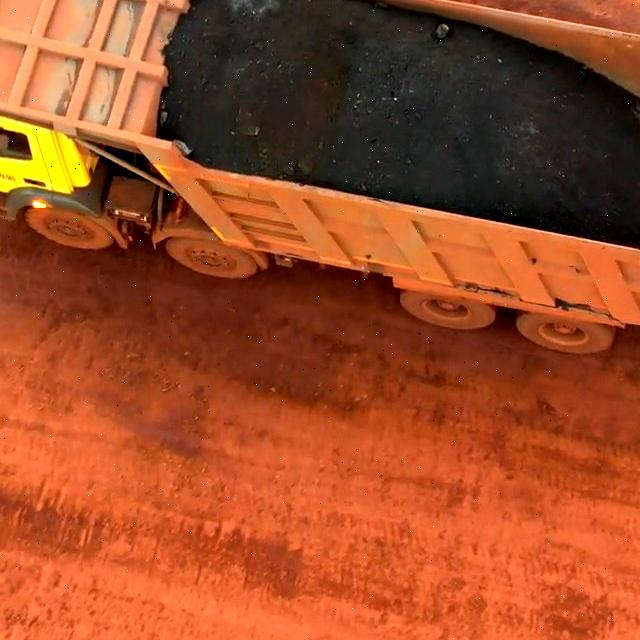Dumper truck: (0, 0, 277, 215)
